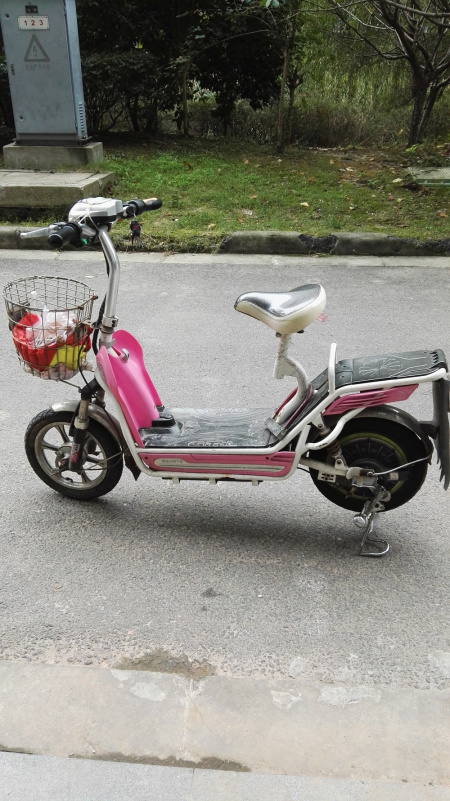电动车: (4, 187, 450, 563)
